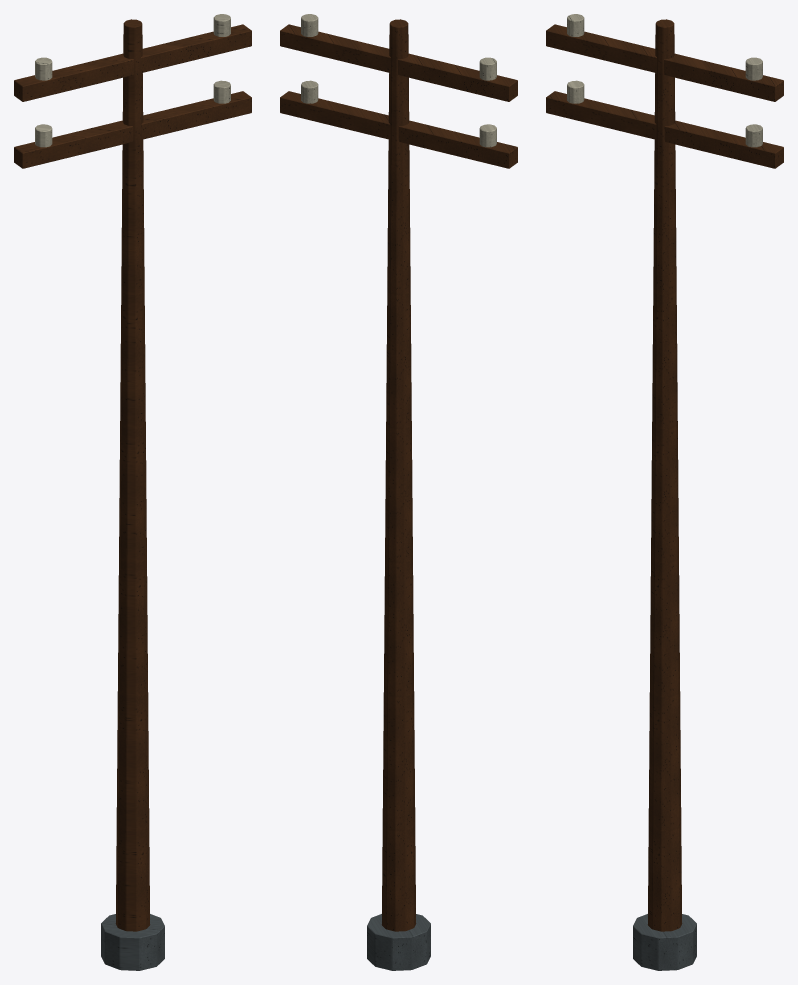
File: PROP-FF927E45F8D0_lod1.glb
The picture shows the model from 3 angles, left to right: view 1: azimuth 30°, elevation 25°; view 2: azimuth 150°, elevation 25°; view 3: azimuth 330°, elevation 25°; orthographic projection.
Visible parts, largest first — view 1: pole.006, pole_crossarm.002, pole_base.006, insulators.002; view 2: pole.006, pole_crossarm.002, pole_base.006, insulators.002; view 3: pole.006, pole_crossarm.002, pole_base.006, insulators.002.
Part boxes in pixels (left/top/right/bottom): pole.006: left=115, top=19, right=150, bottom=931; pole_crossarm.002: left=14, top=24, right=251, bottom=168; pole_base.006: left=101, top=914, right=164, bottom=970; insulators.002: left=35, top=14, right=230, bottom=147; pole.006: left=381, top=19, right=416, bottom=931; pole_crossarm.002: left=280, top=24, right=517, bottom=168; pole_base.006: left=367, top=914, right=430, bottom=970; insulators.002: left=301, top=14, right=496, bottom=147; pole.006: left=647, top=19, right=682, bottom=931; pole_crossarm.002: left=546, top=24, right=783, bottom=168; pole_base.006: left=633, top=914, right=696, bottom=970; insulators.002: left=567, top=14, right=762, bottom=147.
Size of the model in its own units: 1.8 by 7 by 0.4185.
3 materials, 3 textured.
